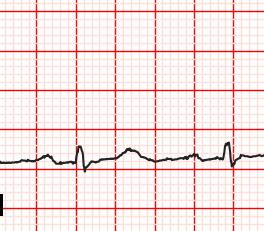LVH: (109, 145, 156, 169)
Poor R Progression: (67, 142, 95, 177)
